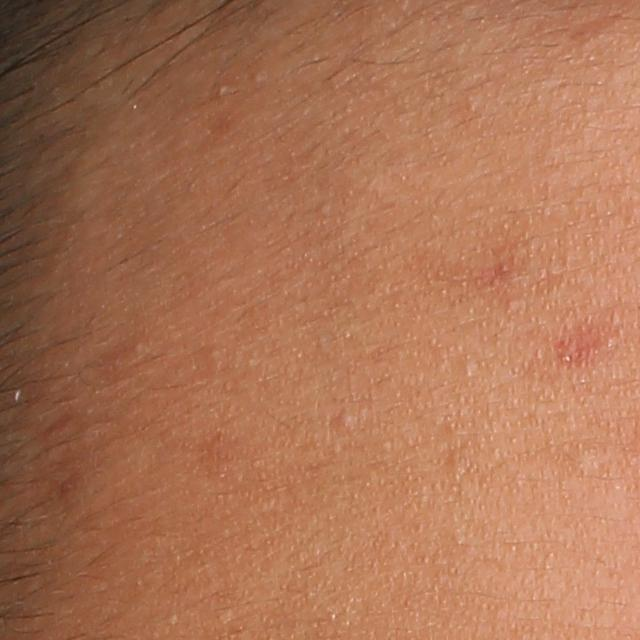comedo: (335, 405, 360, 430), (461, 361, 478, 381)
